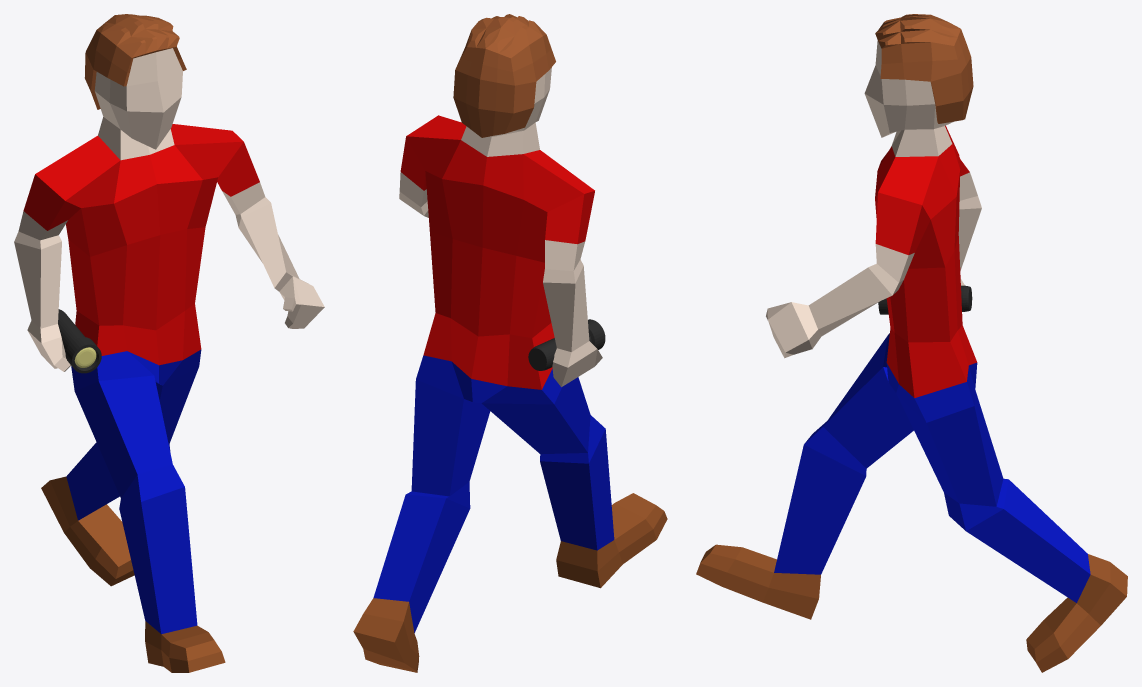
File: Human_walking_26.fbx
3 views of the same model, side by side, from view 1: azimuth 30°, elevation 25°; view 2: azimuth 150°, elevation 25°; view 3: azimuth 270°, elevation 25° (orthographic).
Visible parts, largest first — view 1: Person.001, Cylinder.001; view 2: Person.001, Cylinder.001; view 3: Person.001.
Part boxes in pixels (x1,y1,x2,y2): Person.001: (14,14,324,672); Cylinder.001: (58,309,101,373); Person.001: (353,14,667,672); Cylinder.001: (528,319,605,370); Person.001: (696,14,1127,672).
Size of the model in its own units: 0.5782 by 1.56 by 0.9745.
